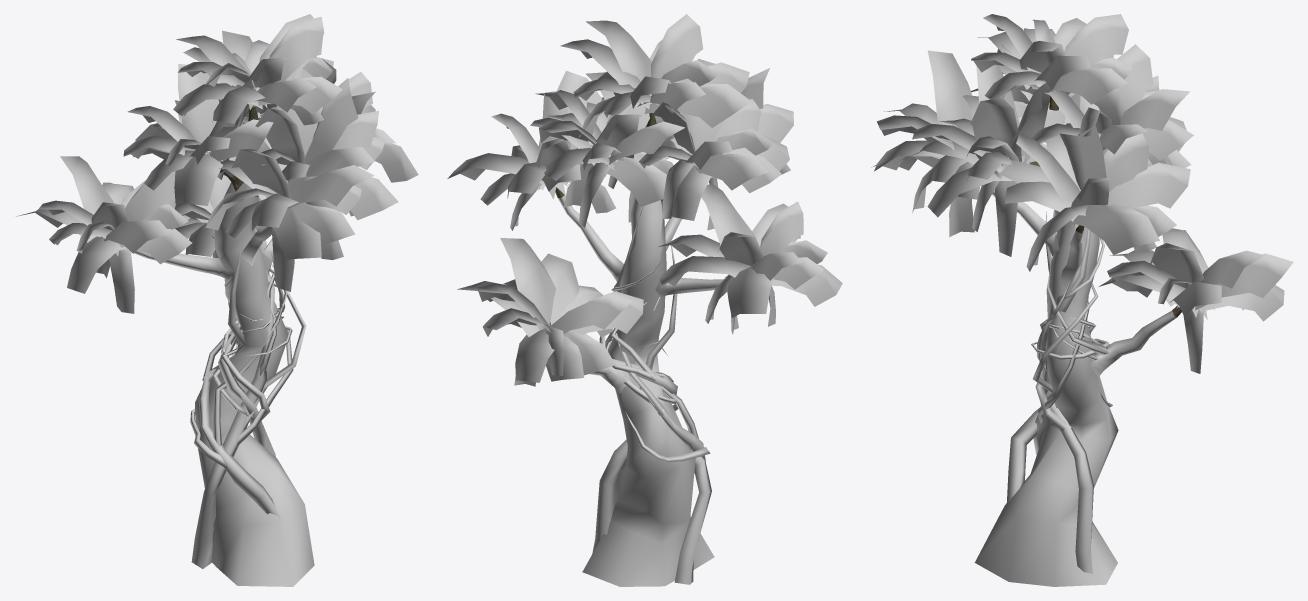
Rendered from Plant6_2_L3.fbx.
3 views of the same model, side by side, from view 1: azimuth 30°, elevation 25°; view 2: azimuth 150°, elevation 25°; view 3: azimuth 270°, elevation 25° (orthographic). The views are drawn at different scales.
Visible parts, largest first — view 1: polySurface2198; view 2: polySurface2198; view 3: polySurface2198.
Part boxes in pixels (<box>): polySurface2198: <box>16,14,418,586</box>; polySurface2198: <box>447,14,842,586</box>; polySurface2198: <box>871,14,1293,586</box>.
Size of the model in its own units: 634 by 927 by 649.
